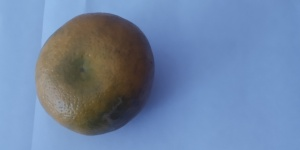BAD: (36, 5, 156, 136)
